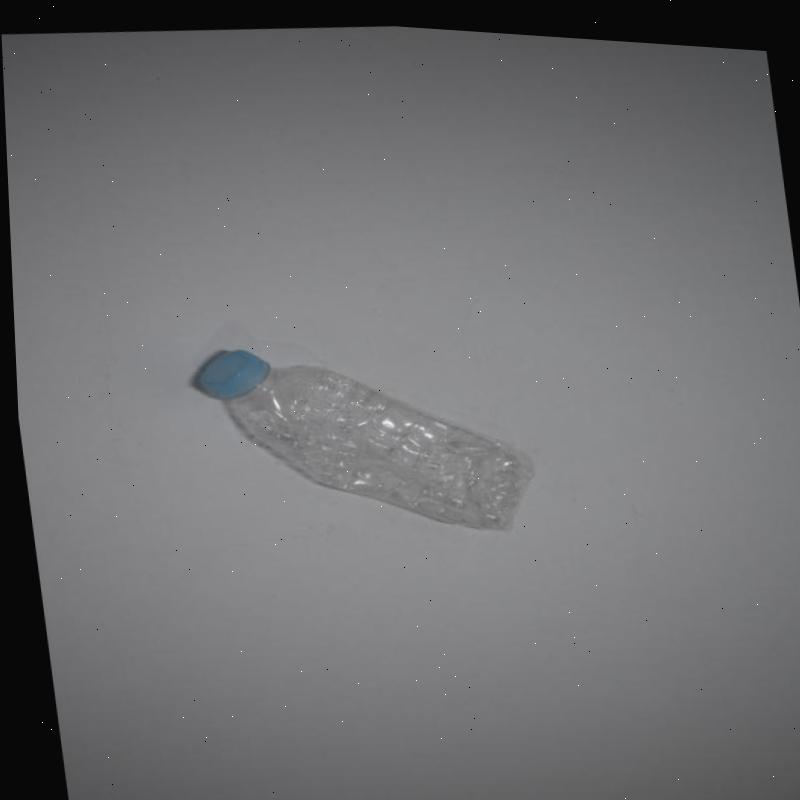botella: (188, 318, 541, 549)
